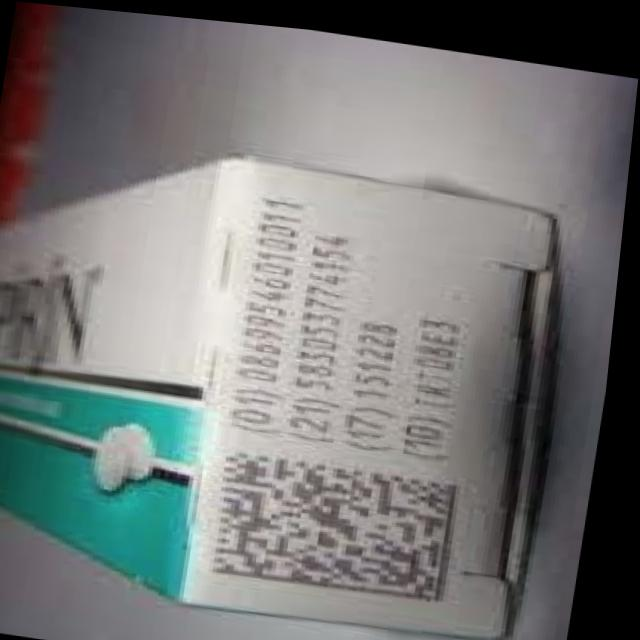datamatrix: (199, 437, 485, 604)
